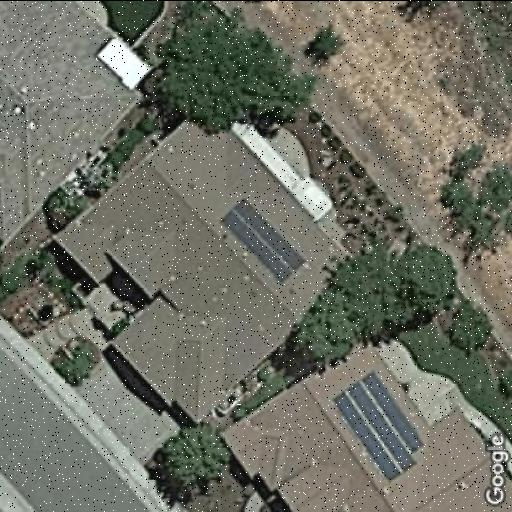solar-panel: (330, 368, 426, 480), (219, 194, 307, 286)
